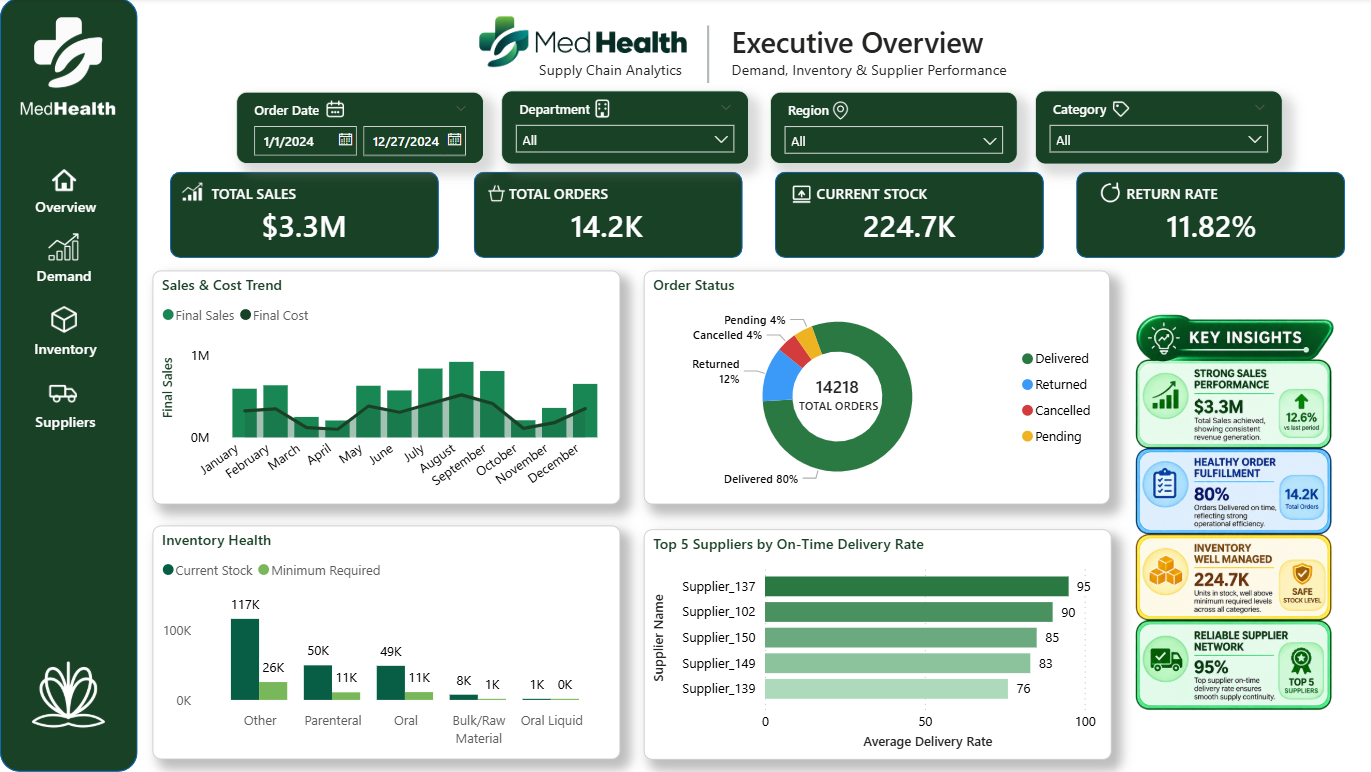

Layout of this report page (visuals, bound fields, positions):
{"tool":"powerbi","page":{"name":"Executive Overview","canvas":[1280,720],"ordinal":0},"visuals":[{"type":"shape","box":[0,0,127.9,719.8],"z":0},{"type":"image","box":[424.4,0,234.9,80.2],"z":0,"group":"g1"},{"type":"image","box":[34.5,143.5,50,52.3],"z":0,"group":"g4"},{"type":"image","box":[23.3,0,81.4,101.2],"z":1000},{"type":"textbox","box":[496.5,52.3,153.5,30.2],"z":1000,"group":"g1"},{"type":"slicer","fields":{"Values":["demand_sales.Order_Date"]},"box":[219.8,87.3,230.2,67.4],"z":1000,"group":"g2"},{"type":"textbox","box":[27.3,180.9,69.9,31.9],"z":1000,"group":"g4"},{"type":"textbox","box":[675.6,17.4,268.6,46.5],"z":2000,"group":"g1"},{"type":"image","box":[34.5,206.3,50,52.3],"z":2000,"group":"g4"},{"type":"lineClusteredColumnComboChart","title":"Sales & Cost Trend","fields":{"Category":["demand_sales.Order_Date.Variation.Date Hierarchy.Month"],"Y":["Sum(demand_sales.Final_Sales)"],"Y2":["Sum(demand_sales.Final_Cost)"]},"box":[141.9,253.5,434.9,217.4],"z":2000},{"type":"shape","box":[624.4,25.6,68.6,53.5],"z":3000,"group":"g1"},{"type":"slicer","fields":{"Values":["demand_sales.Dept"]},"box":[466.3,86.1,230.2,68.6],"z":3000,"group":"g2"},{"type":"textbox","box":[28.6,244.7,66.2,31.9],"z":3000,"group":"g4"},{"type":"donutChart","title":"Order Status","fields":{"Category":["demand_sales.Order_Status"],"Y":["demand_sales.Total Orders"]},"box":[598.8,253.5,433.7,217.4],"z":3000},{"type":"textbox","box":[675.6,52.3,290.7,30.2],"z":4000,"group":"g1"},{"type":"image","box":[34.5,272.6,50,52.3],"z":4000,"group":"g4"},{"type":"card","fields":{"Values":["demand_sales.Total Orders"]},"box":[738.4,348.8,81.4,29.1],"z":4000},{"type":"slicer","fields":{"Values":["demand_sales.Region"]},"box":[716.3,87.3,230.2,67.4],"z":5000,"group":"g2"},{"type":"textbox","box":[23,312.1,77.3,28.2],"z":5000,"group":"g4"},{"type":"textbox","box":[738.8,363.5,88.2,28.2],"z":5000},{"type":"slicer","fields":{"Values":["demand_sales.Category"]},"box":[962.8,86.1,230.2,68.6],"z":6000,"group":"g2"},{"type":"image","box":[34.5,338.8,50,52.3],"z":6000,"group":"g4"},{"type":"clusteredColumnChart","title":"Inventory Health","fields":{"Category":["inventory_stock.Category"],"Y":["inventory_stock.Current Stock","inventory_stock.Minimum Required"]},"box":[141.9,490.7,434.9,217.4],"z":6000},{"type":"shape","box":[158.1,161.7,250,80.2],"z":7000,"group":"g3"},{"type":"textbox","box":[27.1,380.8,72.4,30.7],"z":7000,"group":"g4"},{"type":"clusteredBarChart","title":"Top 5 Suppliers by On-Time Delivery Rate","fields":{"Category":["supplier_procurement.Supplier_Name"],"Y":["Avg(supplier_procurement.On_Time_Delivery_Rate)"]},"box":[598.3,494,435,214.1],"z":7000},{"type":"image","box":[291.9,83.8,40.7,37.2],"z":8000,"group":"g2"},{"type":"image","box":[1015.1,251.2,265.1,466.3],"z":8000},{"type":"image","box":[0,600,127.9,119.8],"z":9000},{"type":"image","box":[7,80.2,134.9,47.7],"z":10000},{"type":"image","box":[539.6,82.6,41.9,38.4],"z":10000,"group":"g2"},{"type":"group","id":"g1","title":"Group 1","box":[424.4,0,541.9,82.6],"z":11000},{"type":"shape","box":[440.7,161.7,250,80.2],"z":11000,"group":"g3"},{"type":"group","id":"g2","title":"Group 3","box":[219.8,82.6,973.3,72.1],"z":12000},{"type":"image","box":[766.3,87.3,31.4,33.7],"z":13000,"group":"g2"},{"type":"group","id":"g3","title":"Group 4","box":[158.1,160.5,1094.2,90.7],"z":13000},{"type":"group","id":"g4","title":"Group 2","box":[23,143.5,77.3,268],"z":14000},{"type":"shape","box":[720.9,161.7,250,80.2],"z":14000,"group":"g3"},{"type":"actionButton","box":[16.3,143,90.7,69.8],"z":15000},{"type":"image","box":[1021,84.9,43,36],"z":16000,"group":"g2"},{"type":"actionButton","box":[11.6,214,100,61.6],"z":16000},{"type":"shape","box":[1001.1,161.7,250,80.2],"z":17000,"group":"g3"},{"type":"actionButton","box":[11.8,278.8,100,61.2],"z":17000},{"type":"actionButton","box":[12.9,350.6,100,62.4],"z":18000},{"type":"card","title":"TOTAL SALES","fields":{"Values":["demand_sales.Total Sales"]},"box":[158.1,174.5,250,76.7],"z":19000,"group":"g3"},{"type":"image","box":[158.1,162.8,43,36],"z":21000,"group":"g3"},{"type":"textbox","box":[192.1,167,98.8,29.4],"z":23000,"group":"g3"},{"type":"card","title":"TOTAL SALES","fields":{"Values":["demand_sales.Total Orders"]},"box":[439.5,174.5,250,76.7],"z":24000,"group":"g3"},{"type":"textbox","box":[468.5,167,111.8,29.4],"z":26000,"group":"g3"},{"type":"image","box":[440.7,162.8,43,36],"z":27000,"group":"g3"},{"type":"card","title":"TOTAL SALES","fields":{"Values":["inventory_stock.Current Stock"]},"box":[720.9,174.5,250,76.7],"z":28000,"group":"g3"},{"type":"textbox","box":[754.6,167.5,120.9,27.9],"z":29000,"group":"g3"},{"type":"image","box":[720.9,160.5,50,43],"z":30000,"group":"g3"},{"type":"card","title":"TOTAL SALES","fields":{"Values":["demand_sales.Return Rate"]},"box":[1002.3,174.5,250,76.7],"z":31000,"group":"g3"},{"type":"image","box":[1002.3,160.5,44.2,41.9],"z":32000,"group":"g3"},{"type":"textbox","box":[1034.8,167.5,103.5,27.9],"z":33000,"group":"g3"}]}

Visuals, with their boxes in screenshot pixels (x1, y1, x2, y2), scaled from the page's 1280x720 canvas onto the 1371x772 screenshot:
shape: 0 0 137 771
image: 455 0 706 86
image: 37 154 91 210
image: 25 0 112 109
textbox: 532 56 696 88
slicer - demand_sales.Order_Date: 235 94 482 166
textbox: 29 194 104 228
textbox: 724 19 1011 69
image: 37 221 91 277
"Sales & Cost Trend" lineClusteredColumnComboChart: 152 272 618 505
shape: 669 27 742 85
slicer - demand_sales.Dept: 499 92 746 166
textbox: 31 262 102 297
"Order Status" donutChart: 641 272 1106 505
textbox: 724 56 1035 88
image: 37 292 91 348
card - demand_sales.Total Orders: 791 374 878 405
slicer - demand_sales.Region: 767 94 1014 166
textbox: 25 335 107 365
textbox: 791 390 886 420
slicer - demand_sales.Category: 1031 92 1278 166
image: 37 363 91 419
"Inventory Health" clusteredColumnChart: 152 526 618 759
shape: 169 173 437 259
textbox: 29 408 107 441
"Top 5 Suppliers by On-Time Delivery Rate" clusteredBarChart: 641 530 1107 759
image: 313 90 356 130
image: 1087 269 1370 769
image: 0 643 137 771
image: 7 86 152 137
image: 578 89 623 130
"Group 1" group: 455 0 1035 89
shape: 472 173 740 259
"Group 3" group: 235 89 1278 166
image: 821 94 854 130
"Group 4" group: 169 172 1341 269
"Group 2" group: 25 154 107 441
shape: 772 173 1040 259
actionButton: 17 153 115 228
image: 1094 91 1140 130
actionButton: 12 229 120 296
shape: 1072 173 1340 259
actionButton: 13 299 120 365
actionButton: 14 376 121 443
"TOTAL SALES" card: 169 187 437 269
image: 169 175 215 213
textbox: 206 179 312 211
"TOTAL SALES" card: 471 187 739 269
textbox: 502 179 622 211
image: 472 175 518 213
"TOTAL SALES" card: 772 187 1040 269
textbox: 808 180 938 210
image: 772 172 826 218
"TOTAL SALES" card: 1074 187 1341 269
image: 1074 172 1121 217
textbox: 1108 180 1219 210
